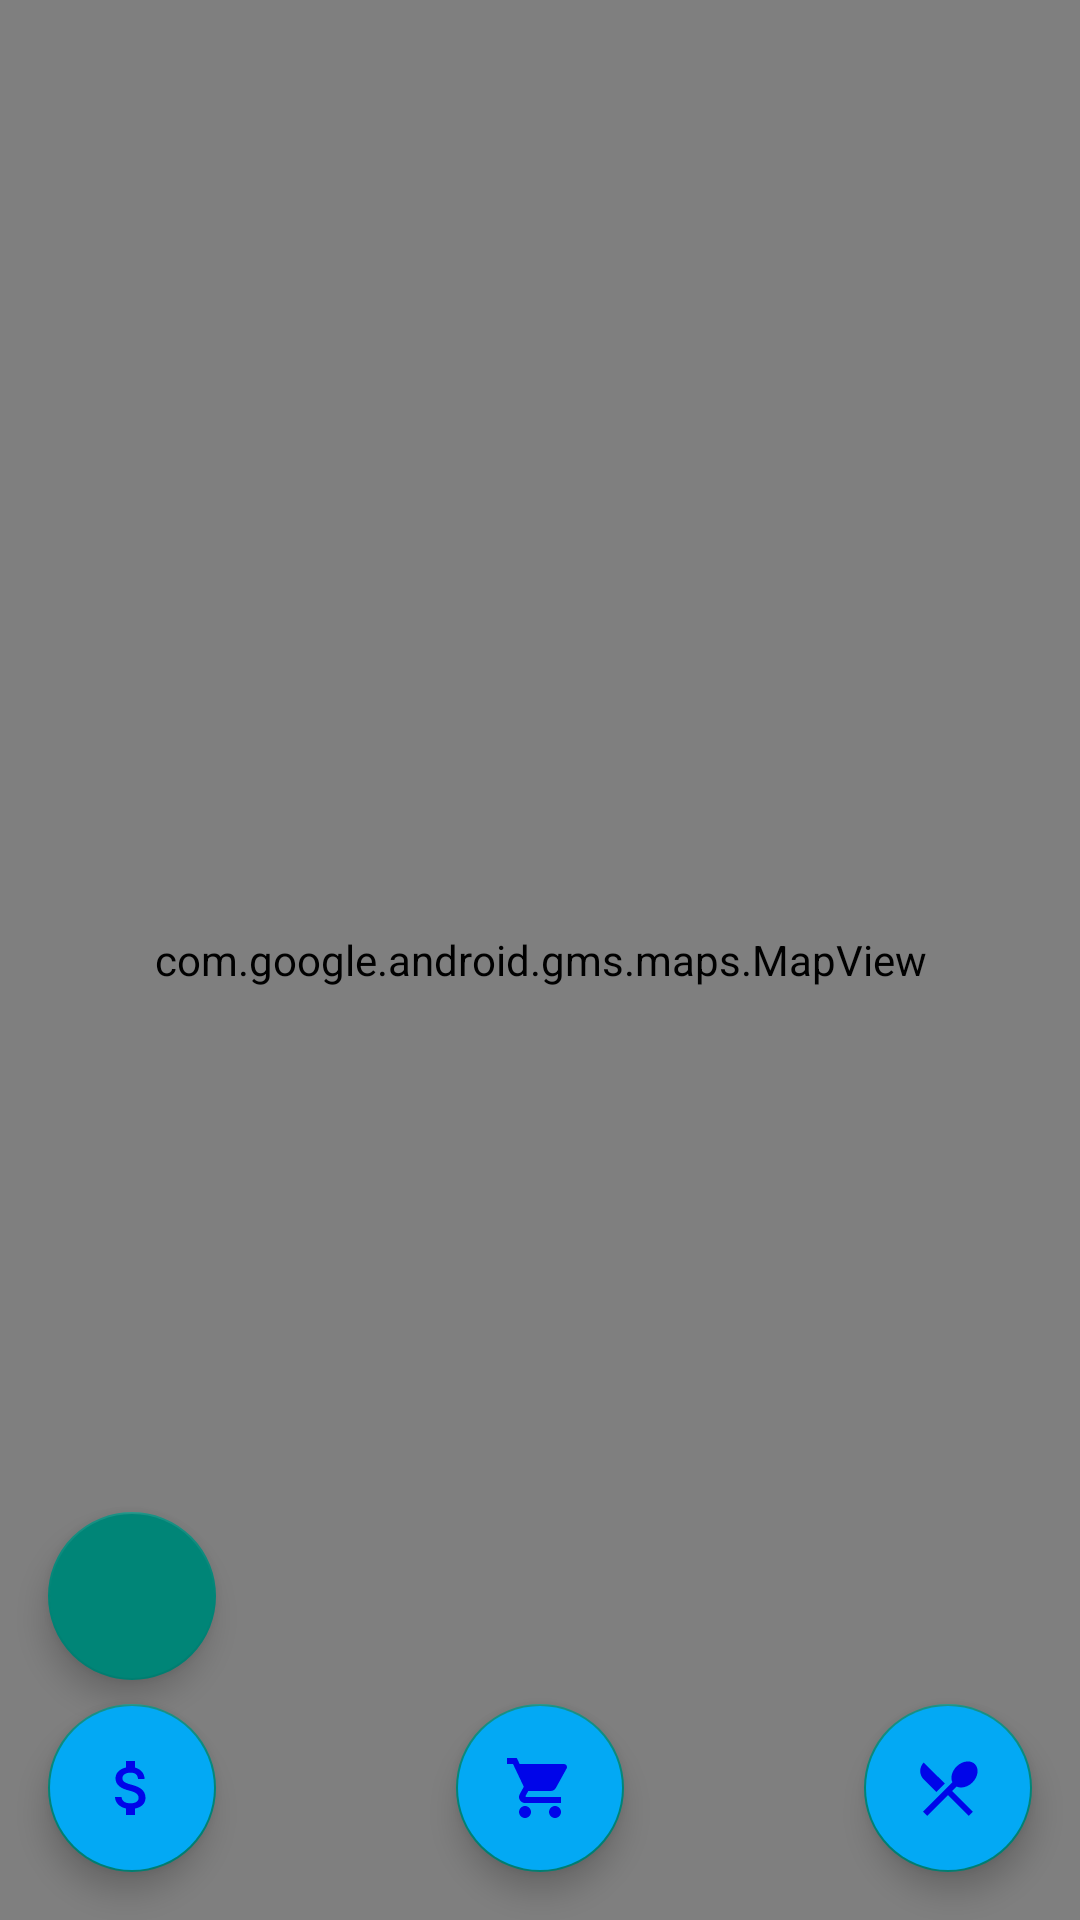

Locate icon controls on the screen. Image size 1080*1920, boxes as {"left": x1, "top": y1, "right": x2, "bottom": y2}.
bank: {"left": 48, "top": 1704, "right": 216, "bottom": 1872}
local grocery store: {"left": 456, "top": 1704, "right": 624, "bottom": 1872}
restaurant: {"left": 864, "top": 1704, "right": 1032, "bottom": 1872}
